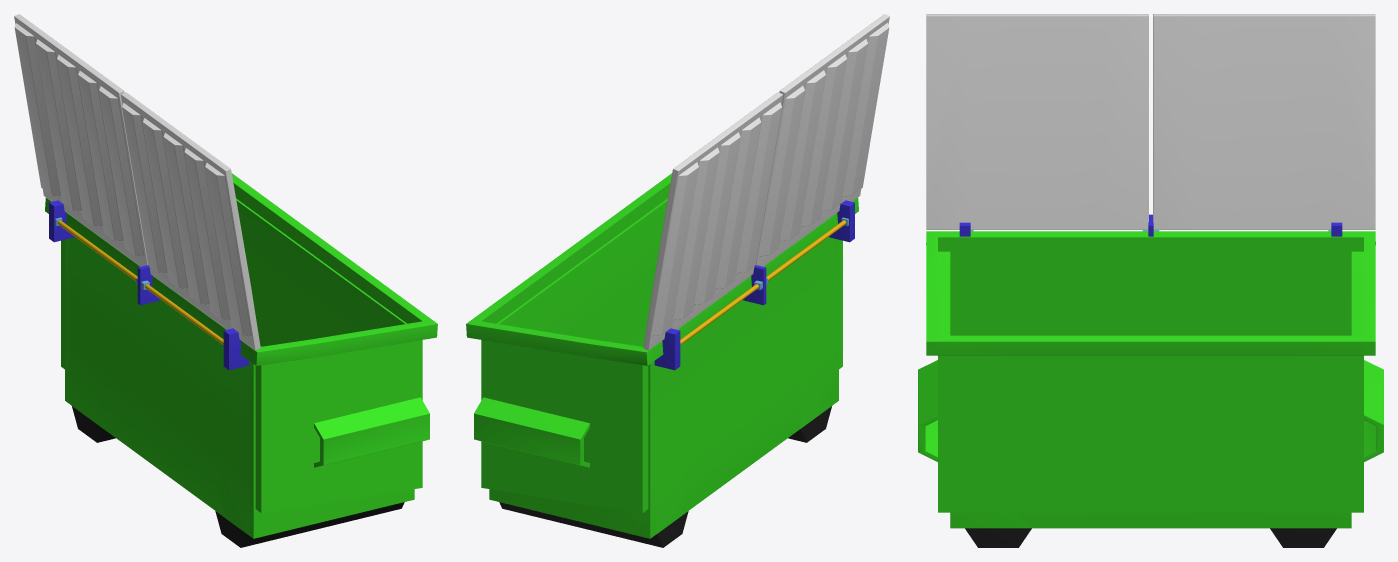
Rendered from Dumpster_LidOpened.fbx.
The picture shows the model from 3 angles, left to right: view 1: azimuth 30°, elevation 25°; view 2: azimuth 150°, elevation 25°; view 3: azimuth 270°, elevation 25°; orthographic projection. The views are drawn at different scales.
Visible parts, largest first — view 1: Dumpster; view 2: Dumpster; view 3: Dumpster.
Boxes of the visible parts, box(x1,y1,x2,y2) form: Dumpster: box(14, 14, 437, 547); Dumpster: box(466, 14, 889, 547); Dumpster: box(918, 14, 1383, 547).
Bounding box in the file's own units: 269 × 481 × 471.
